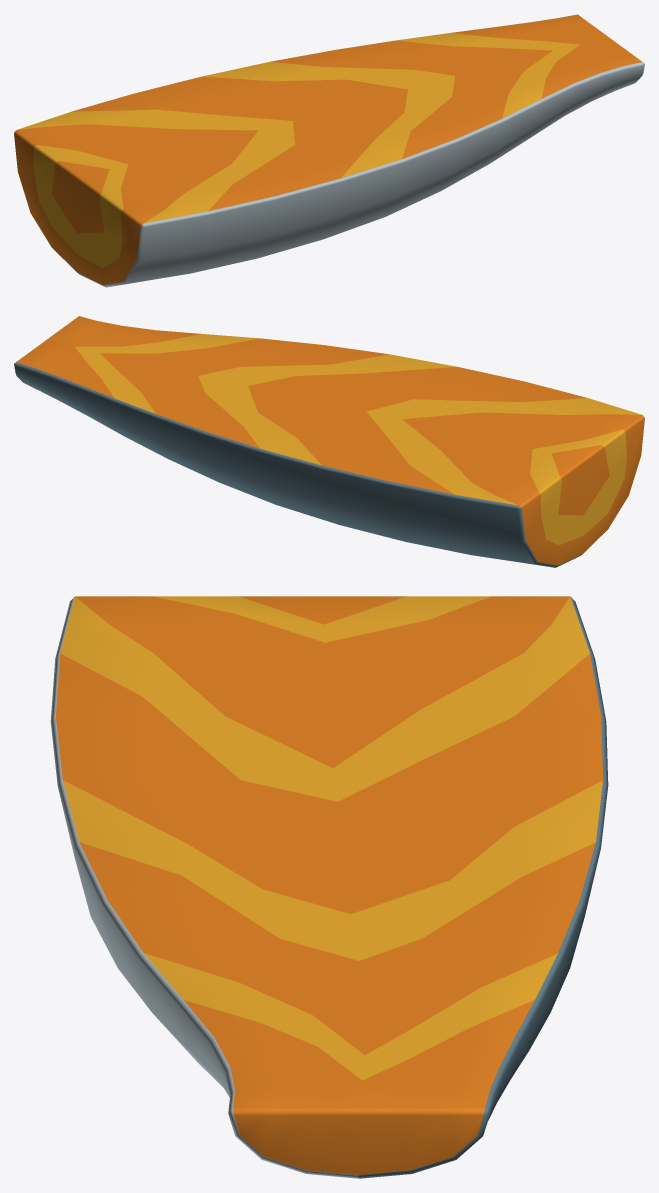
The model's file is Salmon_2_Fillet_1.fbx.
3 renders of one model, top to bottom at view 1: azimuth 30°, elevation 25°; view 2: azimuth 150°, elevation 25°; view 3: azimuth 270°, elevation 25°, orthographic. The views are drawn at different scales.
Parts seen in each view (by area): view 1: Salmon_2_Fillet_1; view 2: Salmon_2_Fillet_1; view 3: Salmon_2_Fillet_1.
Boxes of the visible parts, bbox=[...] form: Salmon_2_Fillet_1: bbox=[14, 14, 644, 287]; Salmon_2_Fillet_1: bbox=[14, 316, 644, 567]; Salmon_2_Fillet_1: bbox=[50, 596, 608, 1178].
Size of the model in its own units: 58.27 by 10.48 by 26.59.
